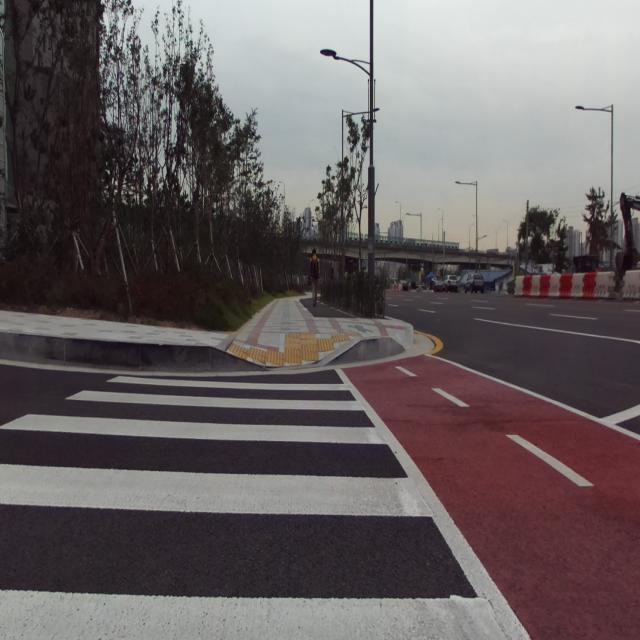횡단보도: (0, 376, 509, 640)
